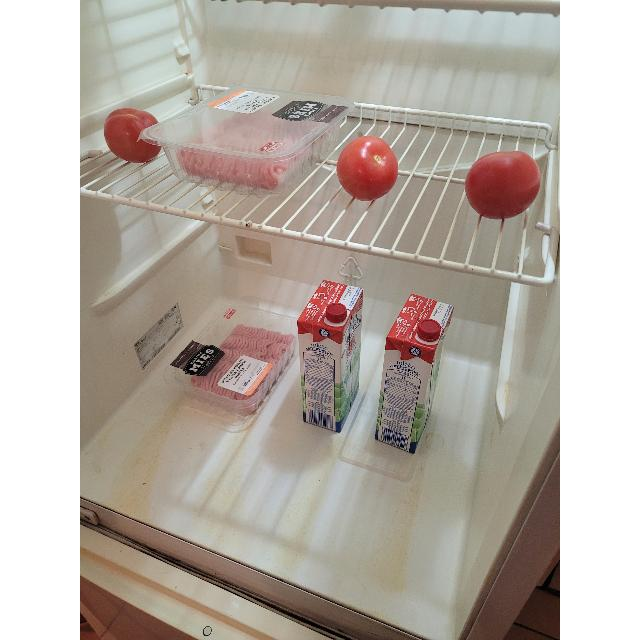meat: (181, 112, 319, 188), (202, 326, 290, 402)
milk: (384, 306, 446, 450), (305, 288, 359, 432)
tomato: (465, 154, 541, 220), (337, 140, 397, 200), (104, 108, 160, 162)
